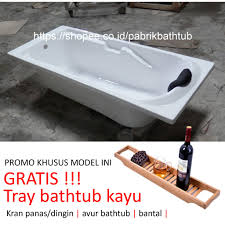bathub: (5, 23, 217, 134)
